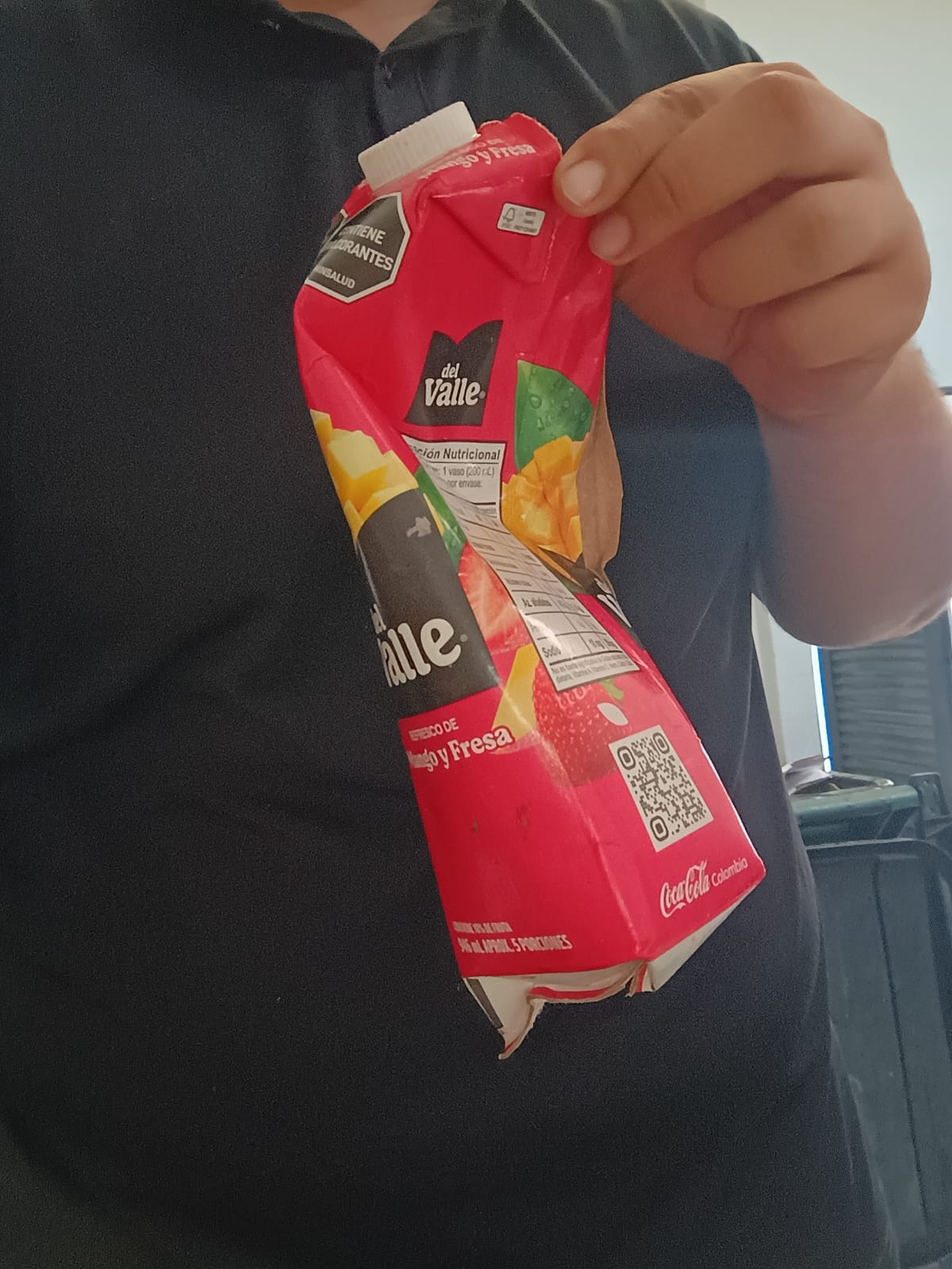Carton: (290, 112, 772, 1058)
